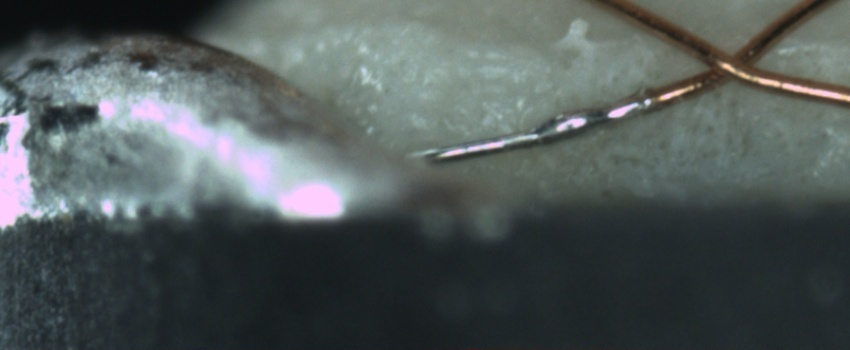CL: (680, 26, 785, 94)
DL: (571, 28, 849, 66)
TS: (404, 96, 649, 162)
TTCW: (404, 76, 704, 165)
